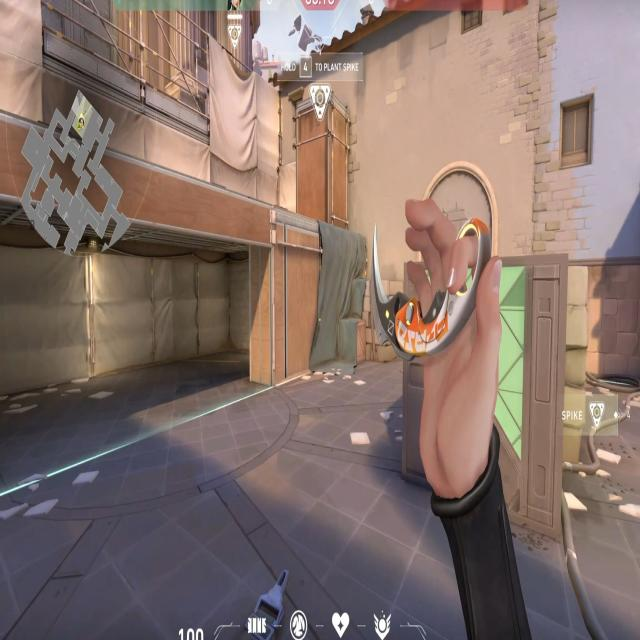A_Heaven_Box: (289, 76, 352, 229)
A_Hell: (0, 104, 287, 430)
